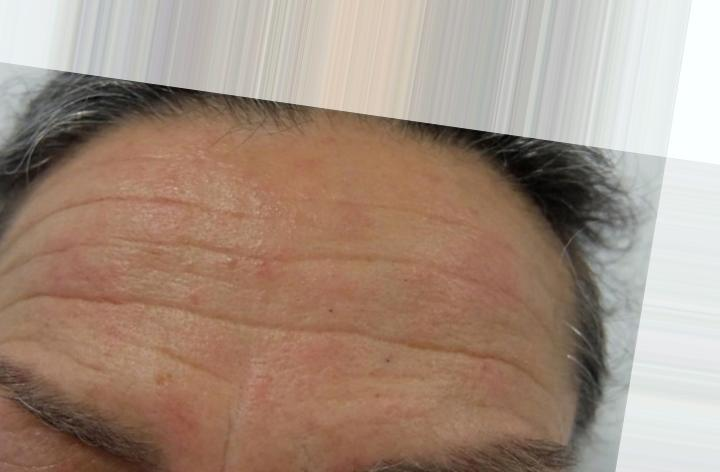Contact Dermatitis: (46, 161, 546, 400)
